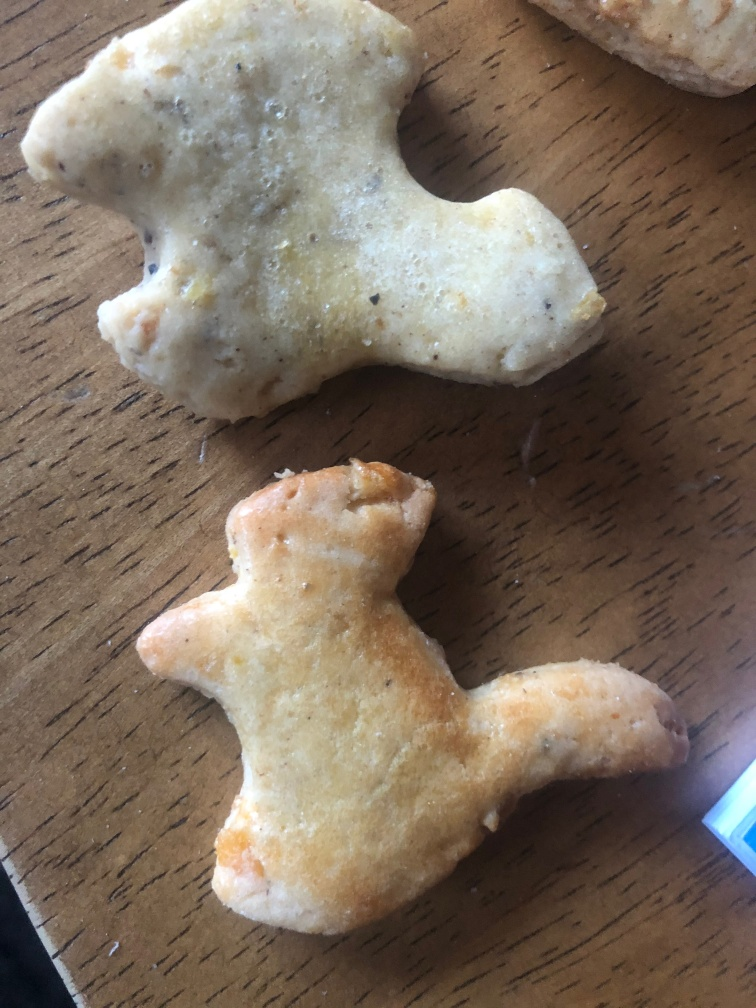lamb: (17, 1, 605, 427)
squirrel: (133, 455, 689, 939)
